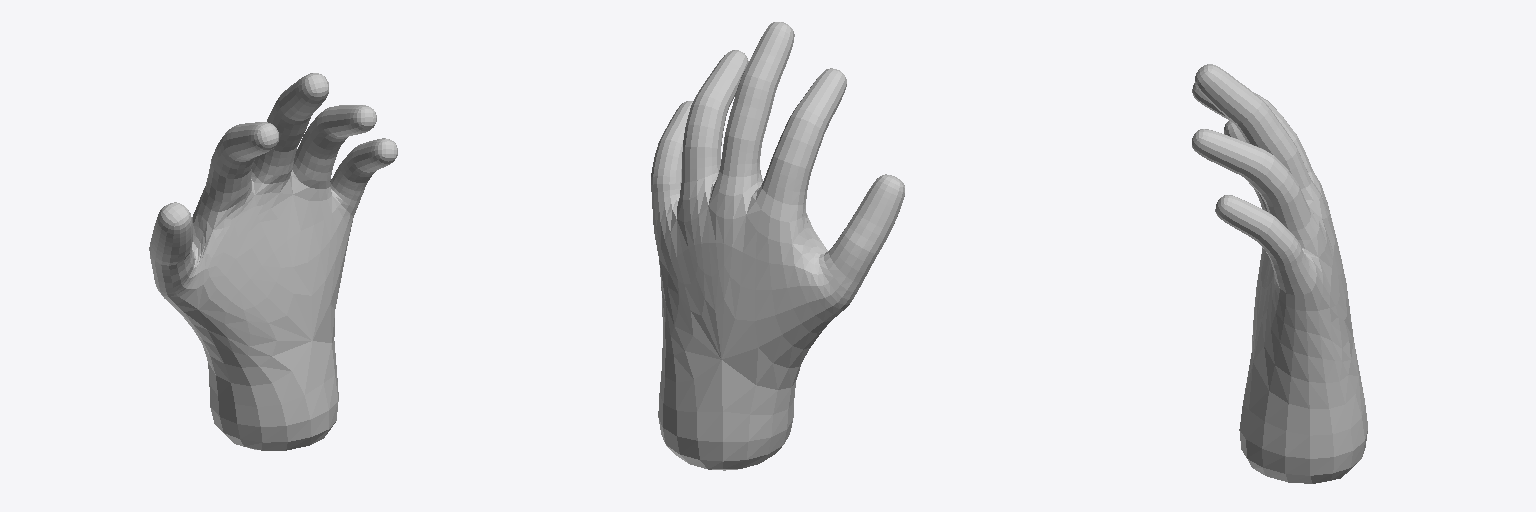
The model's file is handanimatsion14.obj.
The picture shows the model from 3 angles: view 1: azimuth 30°, elevation 25°; view 2: azimuth 150°, elevation 25°; view 3: azimuth 270°, elevation 25°; orthographic projection.
Visible parts, largest first — view 1: Cube; view 2: Cube; view 3: Cube.
Part boxes in pixels (bbox=[...]): Cube: bbox=[149, 73, 397, 450]; Cube: bbox=[651, 22, 904, 470]; Cube: bbox=[1192, 64, 1367, 483].
Bounding box in the file's own units: 3.66 × 6.1 × 2.42.